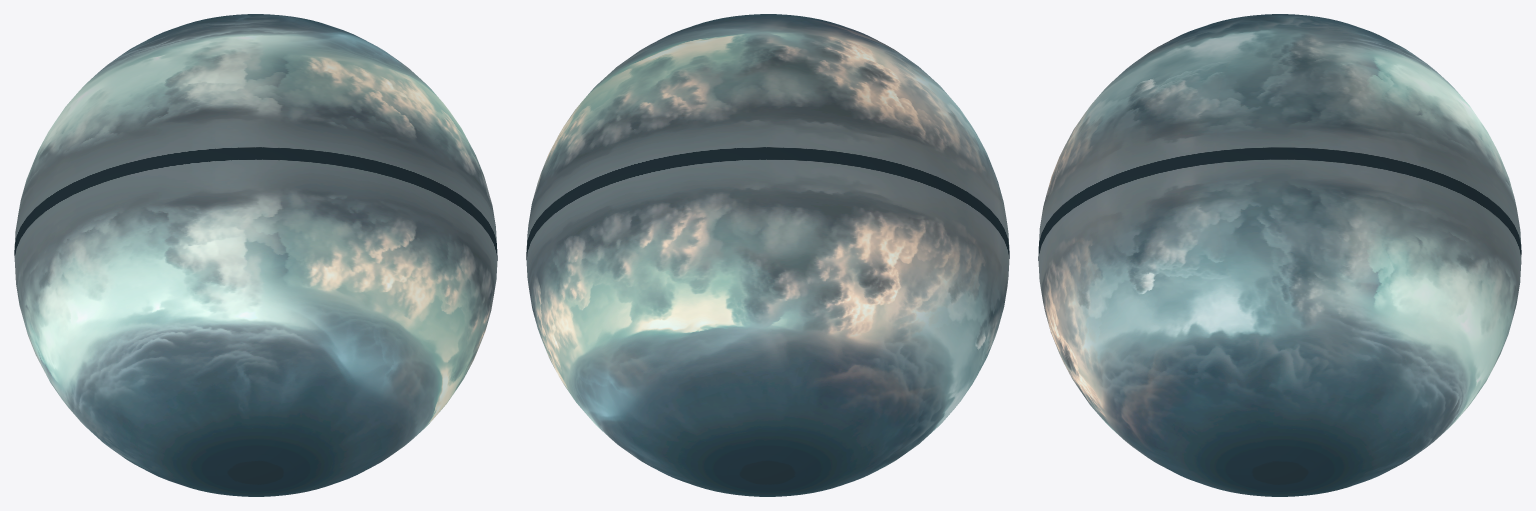
The model's file is sky1.glb.
3 views of the same model, side by side, from view 1: azimuth 30°, elevation 25°; view 2: azimuth 150°, elevation 25°; view 3: azimuth 270°, elevation 25° (orthographic).
Parts seen in each view (by area): view 1: SM_Skybox_Mesh; view 2: SM_Skybox_Mesh; view 3: SM_Skybox_Mesh.
Part boxes in pixels (bbox=[...]): SM_Skybox_Mesh: bbox=[14, 14, 497, 496]; SM_Skybox_Mesh: bbox=[526, 14, 1009, 496]; SM_Skybox_Mesh: bbox=[1038, 14, 1521, 496].
Size of the model in its own units: 409287 by 409600 by 409287.
Materials: 1 (1 with a texture image).
